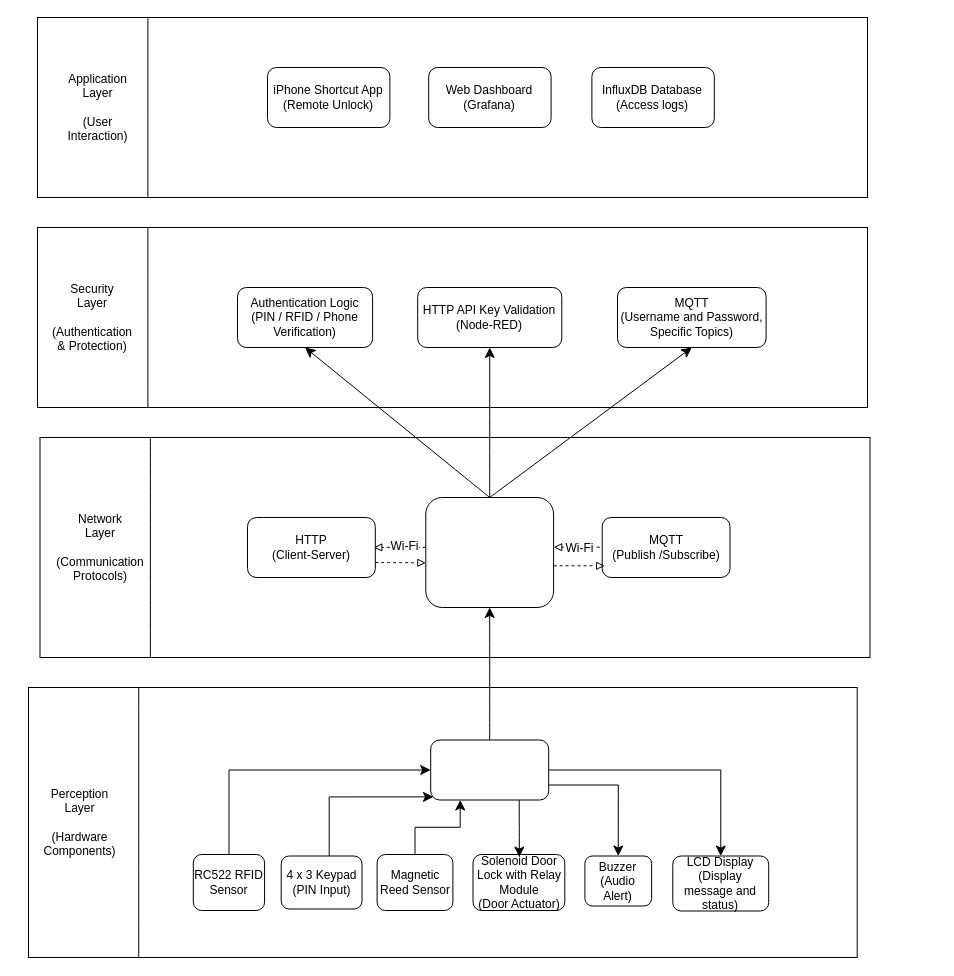
Some shapes in this 954 by 976 pixel diagram are drawn without their labels. The box of each missing label's shape, as (x1, y1, x2, y2) in pixels:
ESP 32 (Microcontroller, Sensor Interface): (430, 739, 549, 800)
Raspberry Pi (Docker: Node-RED, Mosquitto, InfluxDB, Grafana): (425, 496, 554, 608)
